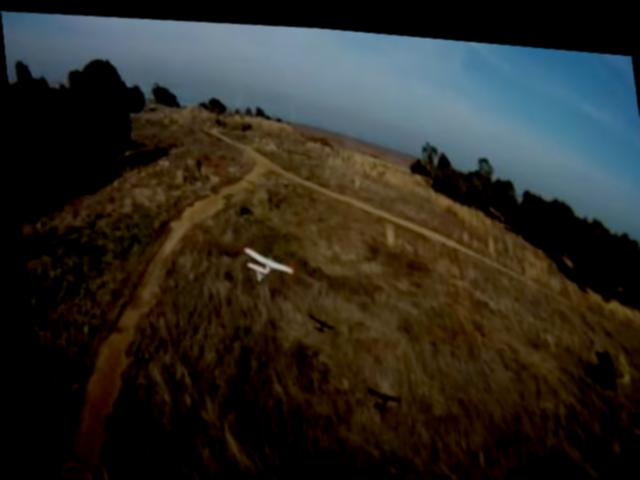uav: (233, 227, 295, 292)
